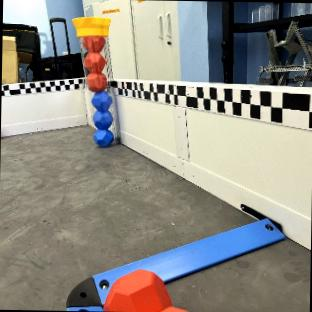Loader: (73, 16, 115, 145)
Parking - Part: (66, 218, 283, 311)
V5_BLUE: (92, 92, 113, 145)
V5_RED: (105, 269, 180, 312), (82, 34, 107, 92)
